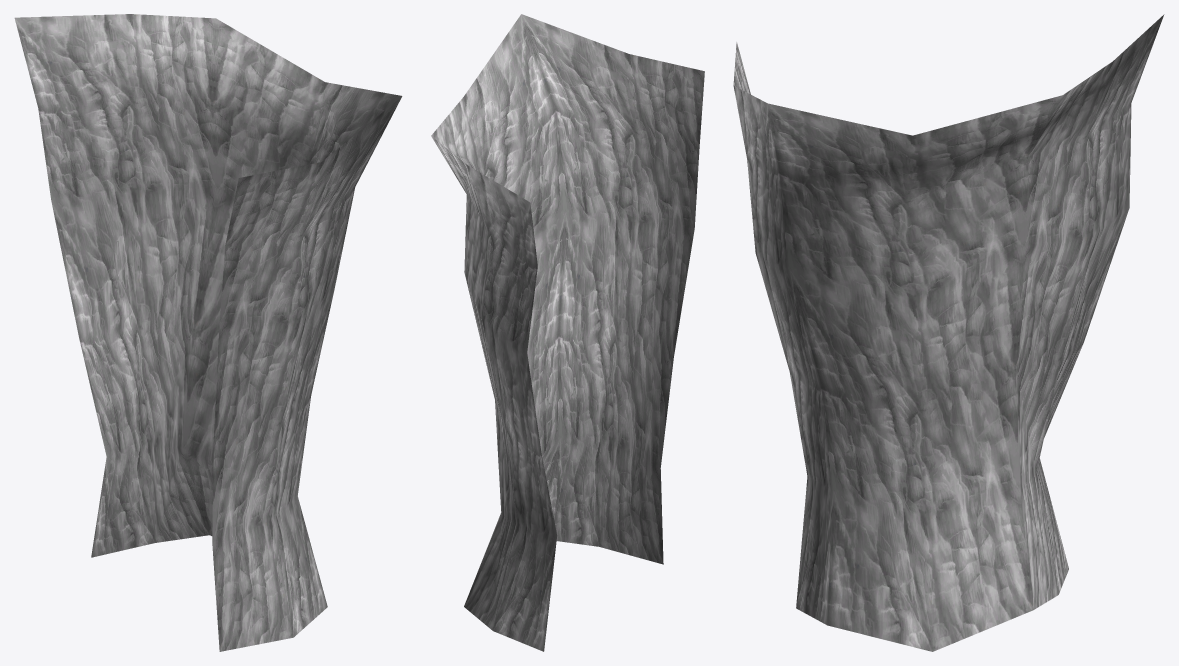
Rendered from SWORDLIGHT20_PS-AREA03_66.fbx.
3 renders of one model, left to right at view 1: azimuth 30°, elevation 25°; view 2: azimuth 150°, elevation 25°; view 3: azimuth 270°, elevation 25°, orthographic. The views are drawn at different scales.
Visible parts, largest first — view 1: SWORDLIGHT20_PS-AREA03_66; view 2: SWORDLIGHT20_PS-AREA03_66; view 3: SWORDLIGHT20_PS-AREA03_66.
Part boxes in pixels (x1,y1,x2,y2): SWORDLIGHT20_PS-AREA03_66: (14, 14, 402, 651); SWORDLIGHT20_PS-AREA03_66: (431, 14, 704, 651); SWORDLIGHT20_PS-AREA03_66: (733, 14, 1164, 651).
Size of the model in its own units: 82988 by 214249 by 148637.
1 material, 1 textured.
